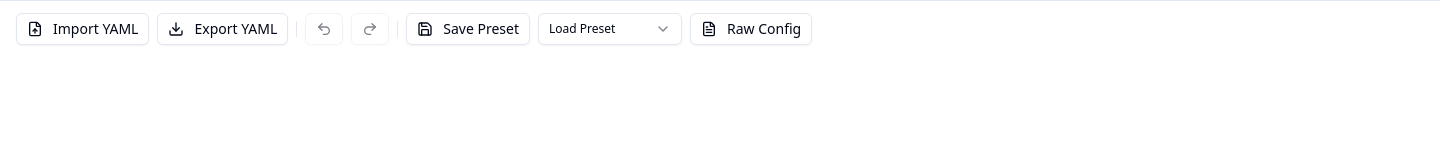
Test: ModelPanelActions / LoadPresetMenu (Issue #369) › renders one menuitem per preset
Click the button "Load Preset". click: (610, 29)
box: [538,13,682,45]
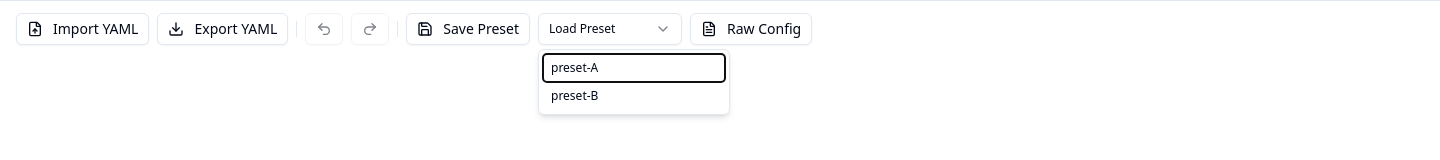
Check: the number of menu items is 2, box [543,54,725,82]; [543,82,725,110]
Check: the menu item "preset-A" is shown, box [543,54,725,82]
Check: the menu item "preset-B" is shown, box [543,82,725,110]
